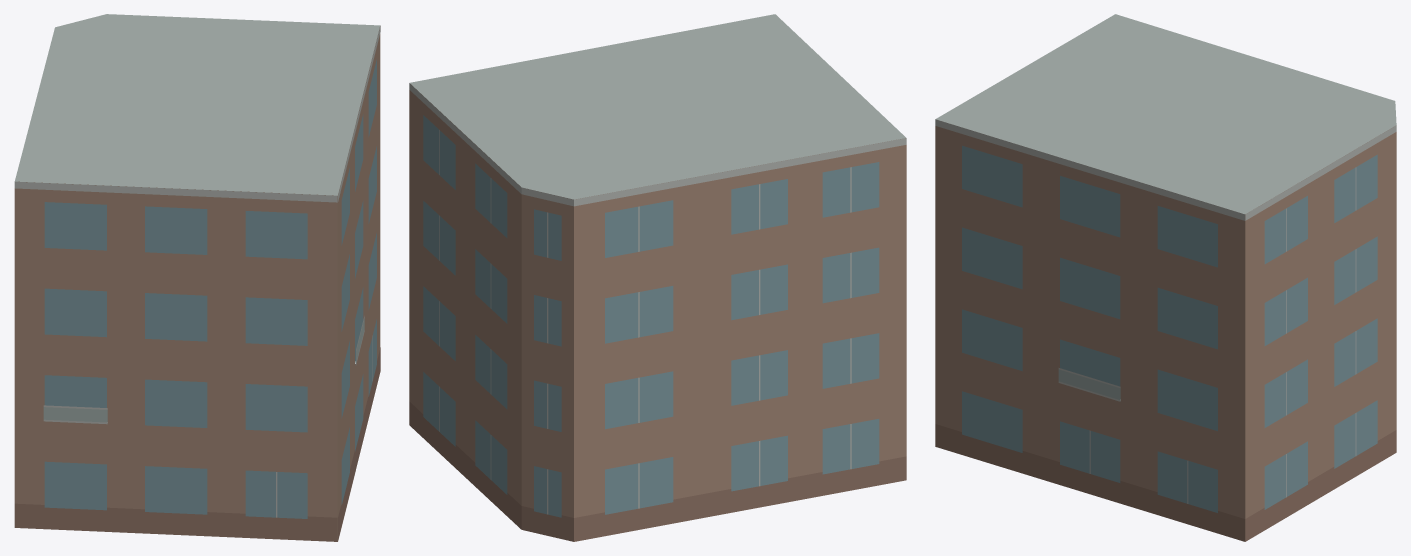
File: survey-upis-32704811.glb
3 views of the same model, side by side, from view 1: azimuth 30°, elevation 25°; view 2: azimuth 150°, elevation 25°; view 3: azimuth 270°, elevation 25° (orthographic). The views are drawn at different scales.
Parts seen in each view (by area): view 1: survey-upis-32704811.tmp; view 2: survey-upis-32704811.tmp; view 3: survey-upis-32704811.tmp.
Boxes of the visible parts, bbox=[...] form: survey-upis-32704811.tmp: bbox=[14, 14, 380, 541]; survey-upis-32704811.tmp: bbox=[409, 14, 906, 541]; survey-upis-32704811.tmp: bbox=[935, 14, 1396, 541].
Bounding box in the file's own units: 16.02 × 12.2 × 15.59.
